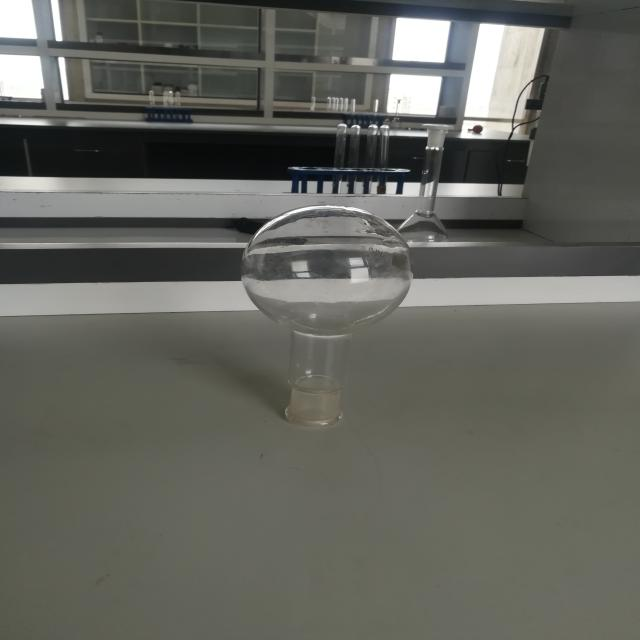Round_Bottom_Flask_Borosilicate_Glass_1_Neck: (220, 176, 438, 455)
